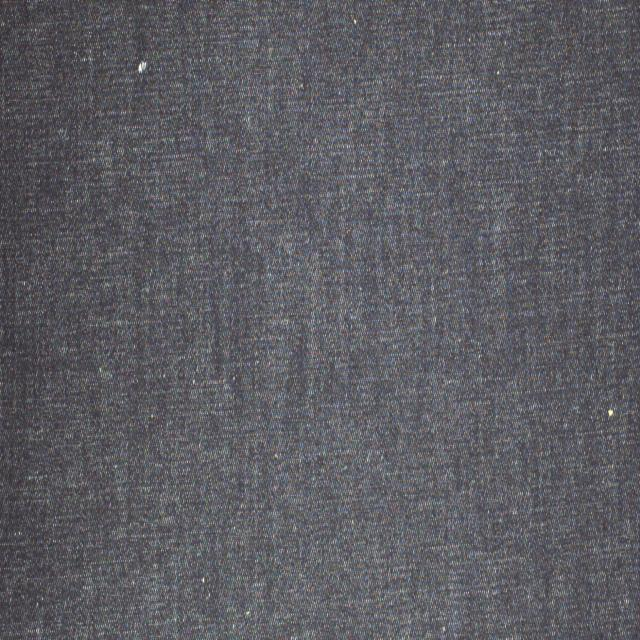Knot: (137, 60, 147, 72)
